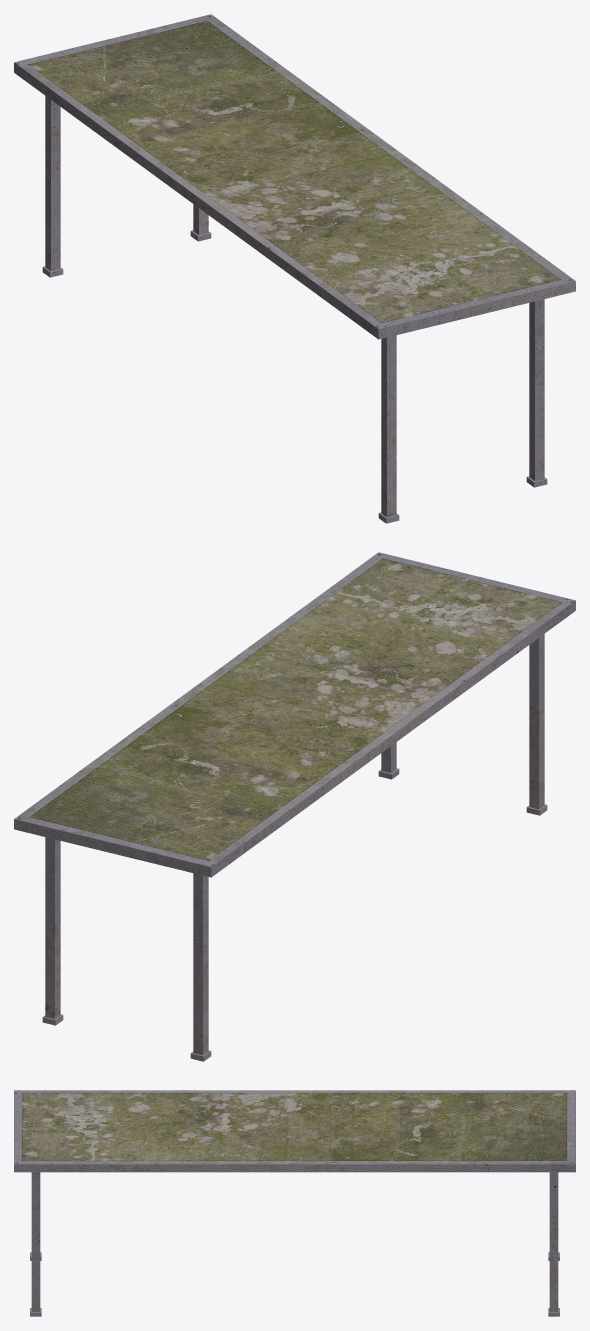
The model's file is table.fbx.
3 renders of one model, top to bottom at view 1: azimuth 30°, elevation 25°; view 2: azimuth 150°, elevation 25°; view 3: azimuth 270°, elevation 25°, orthographic. The views are drawn at different scales.
Parts seen in each view (by area): view 1: table_Layer1; view 2: table_Layer1; view 3: table_Layer1.
Boxes of the visible parts, box(x1,y1,x2,y2) form: table_Layer1: box(14, 14, 575, 523); table_Layer1: box(14, 552, 575, 1061); table_Layer1: box(14, 1090, 575, 1316).
Size of the model in its own units: 80 by 80 by 256.
Materials: 1 (1 with a texture image).
